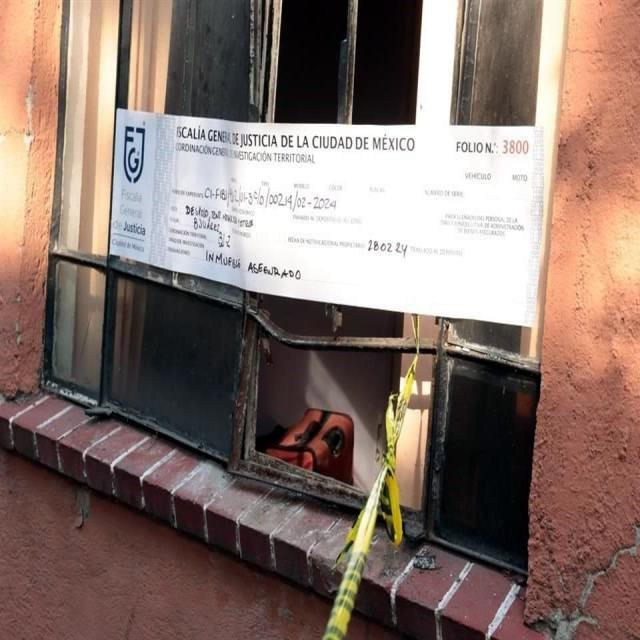stamps: (109, 111, 542, 324)
